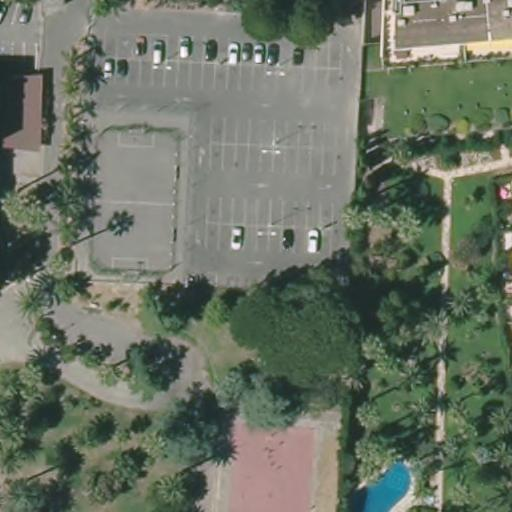pool: (340, 454, 415, 509)
